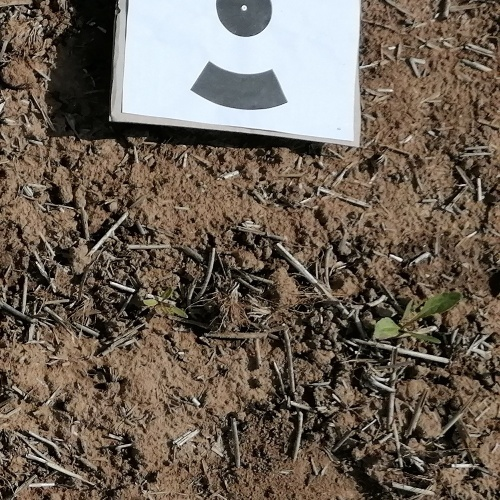beet: (371, 290, 463, 345)
